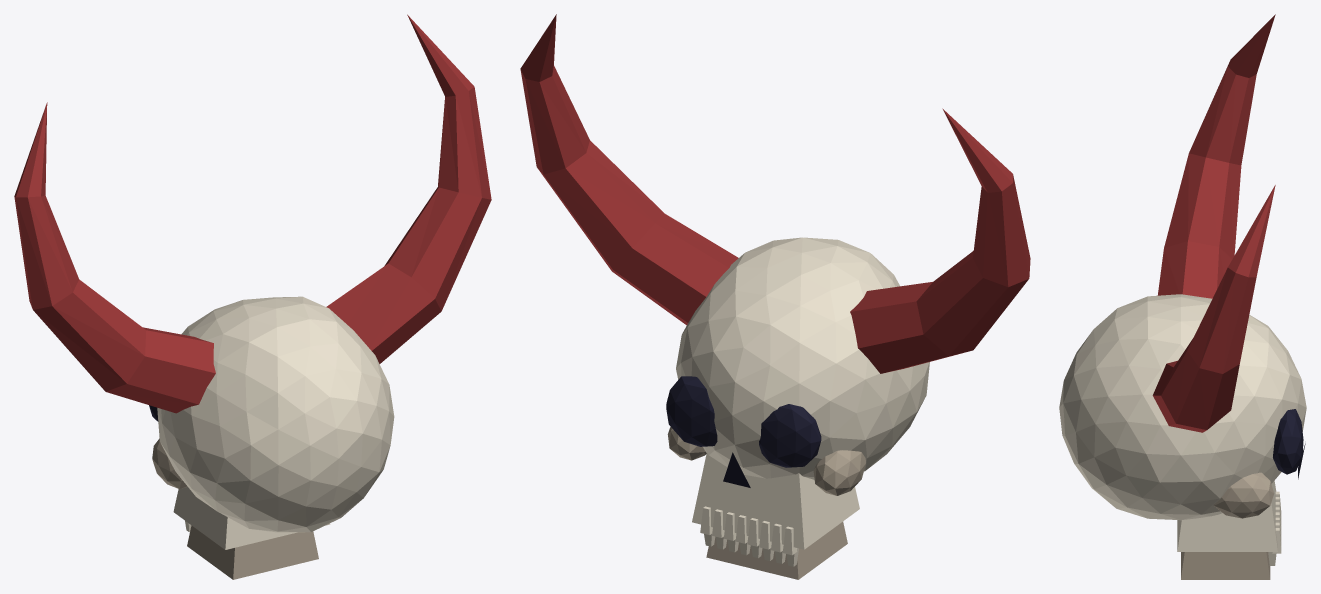
Rendered from Skull.obj.
3 renders of one model, left to right at view 1: azimuth 30°, elevation 25°; view 2: azimuth 150°, elevation 25°; view 3: azimuth 270°, elevation 25°, orthographic. The views are drawn at different scales.
Parts seen in each view (by area): view 1: Skull; view 2: Skull; view 3: Skull.
Part boxes in pixels (x1=…): Skull: x1=14, y1=14, x2=491, y2=579; Skull: x1=520, y1=14, x2=1030, y2=579; Skull: x1=1059, y1=14, x2=1306, y2=579.
Bounding box in the file's own units: 4.57 × 4.55 × 2.22.
1 material, 1 textured.
